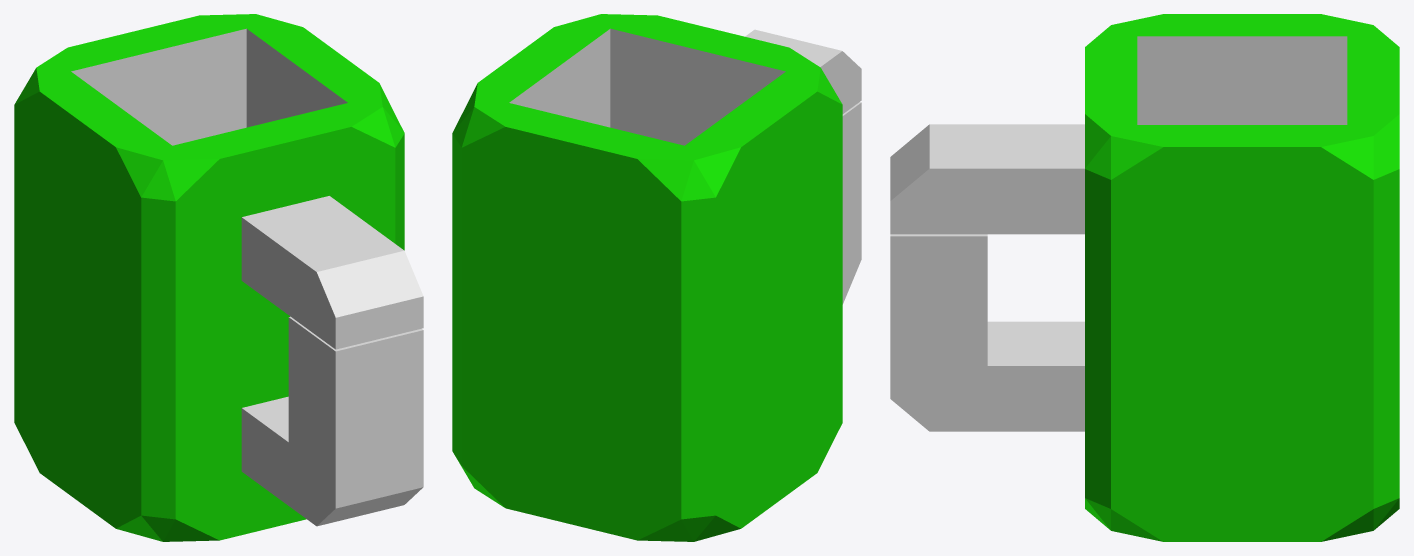
The model's file is Green Mug.glb.
3 views of the same model, side by side, from view 1: azimuth 30°, elevation 25°; view 2: azimuth 150°, elevation 25°; view 3: azimuth 270°, elevation 25° (orthographic). The views are drawn at different scales.
Visible parts, largest first — view 1: Cube; view 2: Cube; view 3: Cube.
Part boxes in pixels (<box>): Cube: <box>14,14,423,541</box>; Cube: <box>452,14,861,541</box>; Cube: <box>890,14,1399,541</box>.
Bounding box in the file's own units: 8.24 × 11.4 × 13.33.
